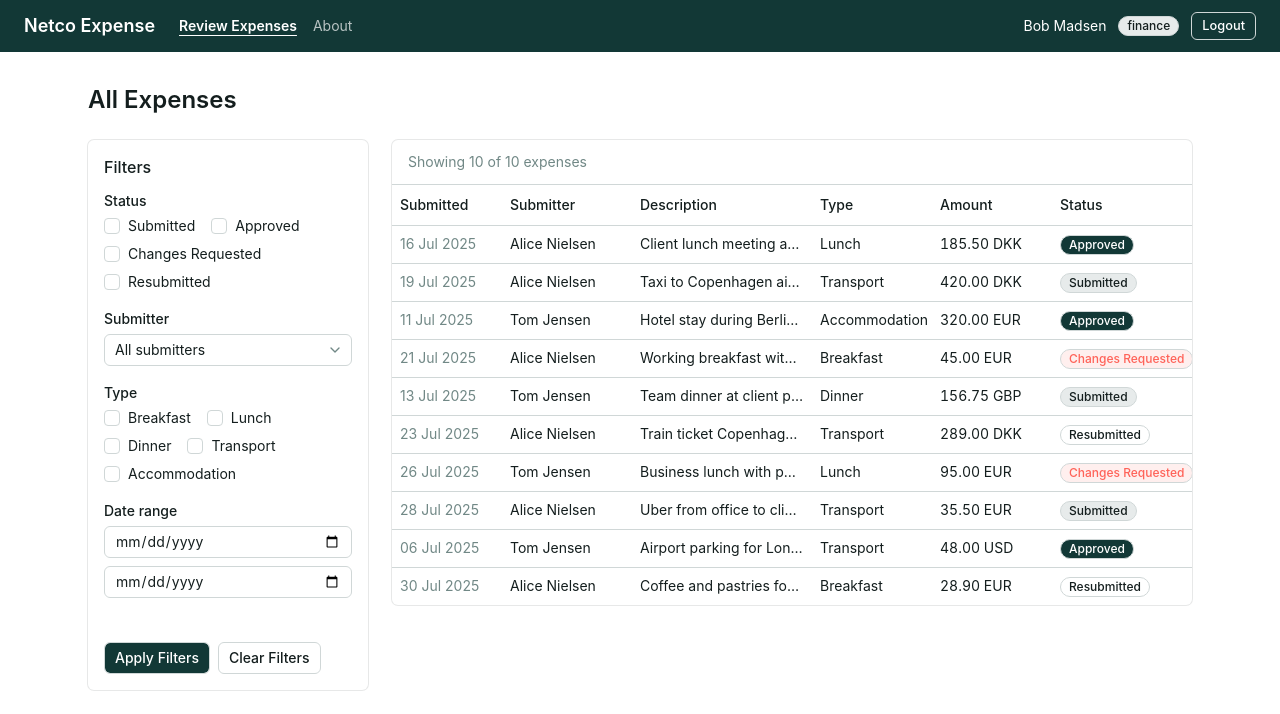
Test: Repository-driven list updates › shows updated status when returning from detail page after approval
Expected: the text "Taxi to Copenhagen airport for client visit" is shown, [640, 273, 812, 290]
Click on the expense to navigate to detail page
What coordinates should you click on to do the following:
click the text "Taxi to Copenhagen airport for client visit"
I would click on:
 (776, 282)
Its box is [640, 273, 913, 290].
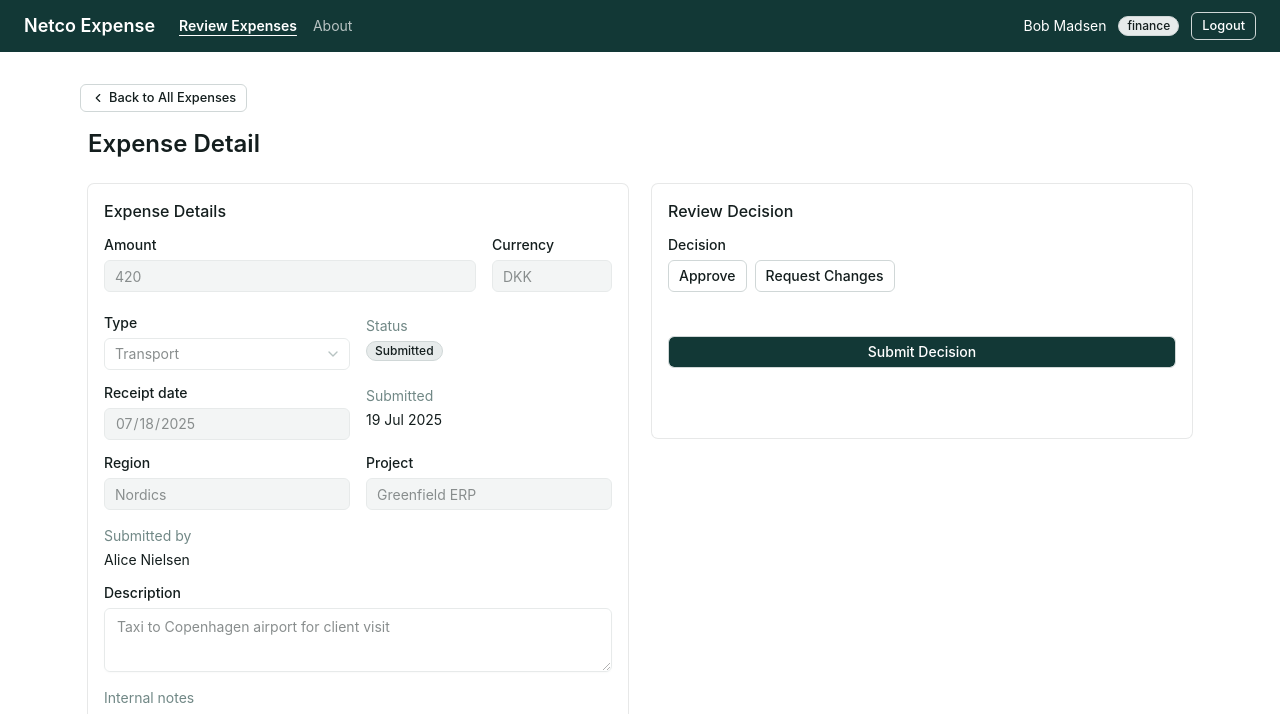
Approve the expense
What coordinates should you click on to do the following:
click the button "Approve"
I would click on:
 (707, 276)
Its box is [668, 260, 747, 292].
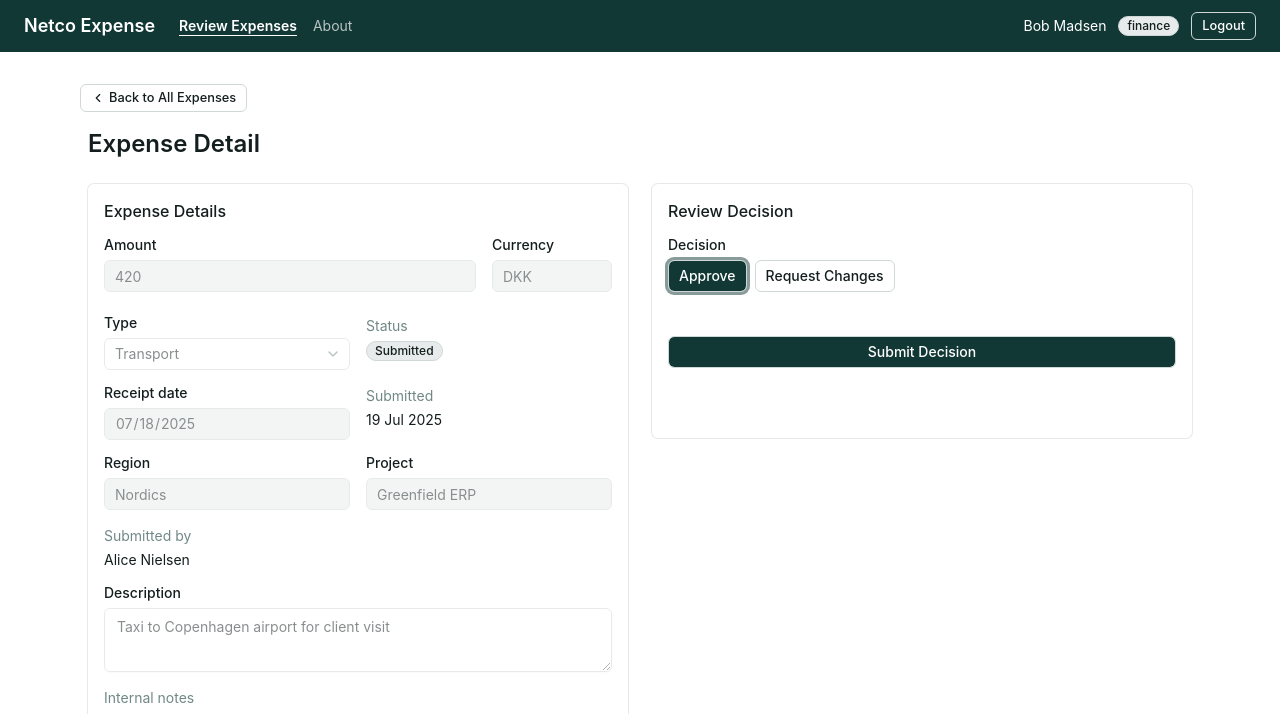
What coordinates should you click on to do the following:
click the button "Submit Decision"
I would click on:
 (922, 352)
Its box is [668, 336, 1176, 368].
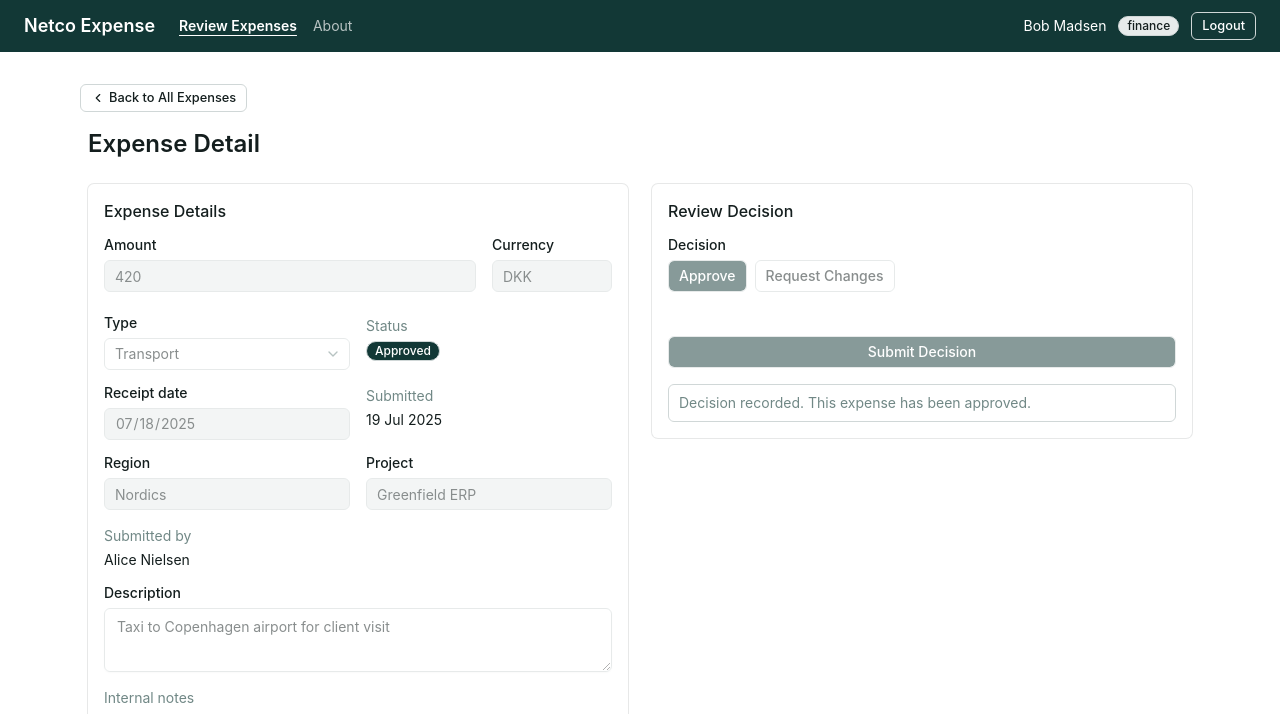
Expected: the text "Approved" is shown, [366, 341, 440, 361]
Navigate back to the list
What coordinates should you click on to do the following:
click the button "Back to All Expenses"
I would click on:
 (164, 98)
Its box is [80, 84, 247, 112].
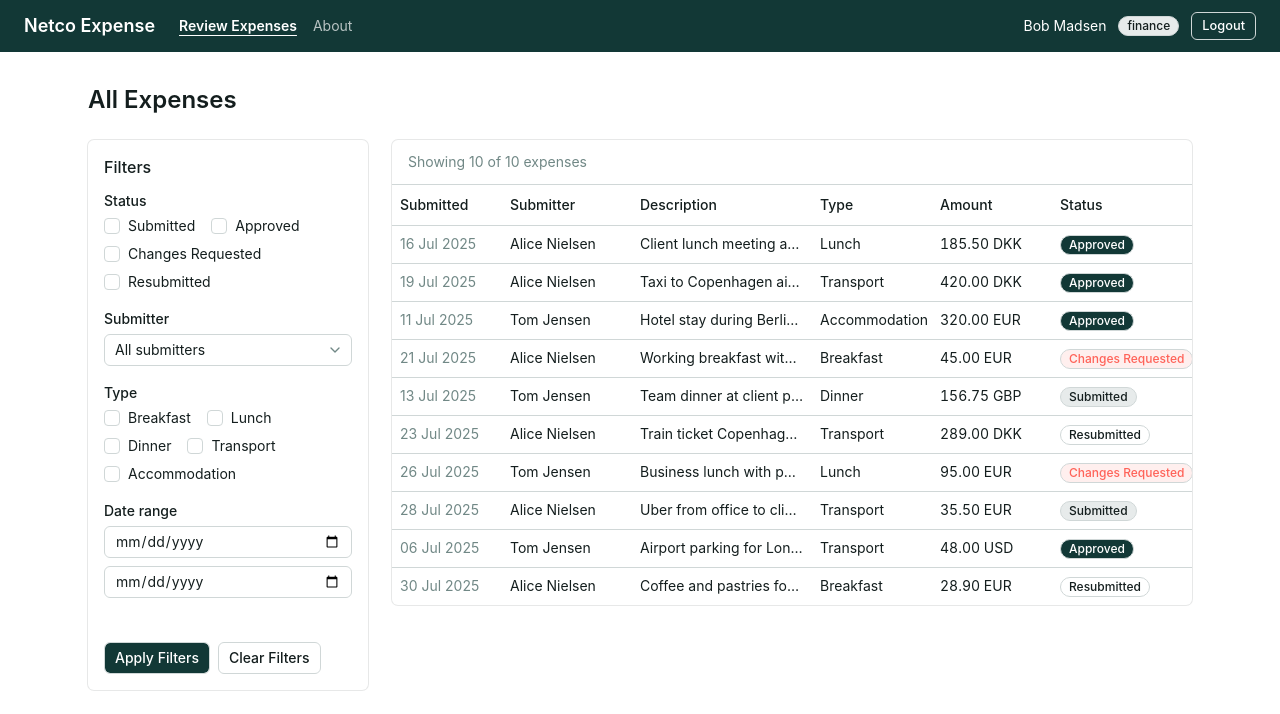
Expected: the 1st text "Approved" is shown, [235, 216, 300, 236]
Expected: the text "Taxi to Copenhagen airport for client visit" is shown, [640, 273, 812, 290]
